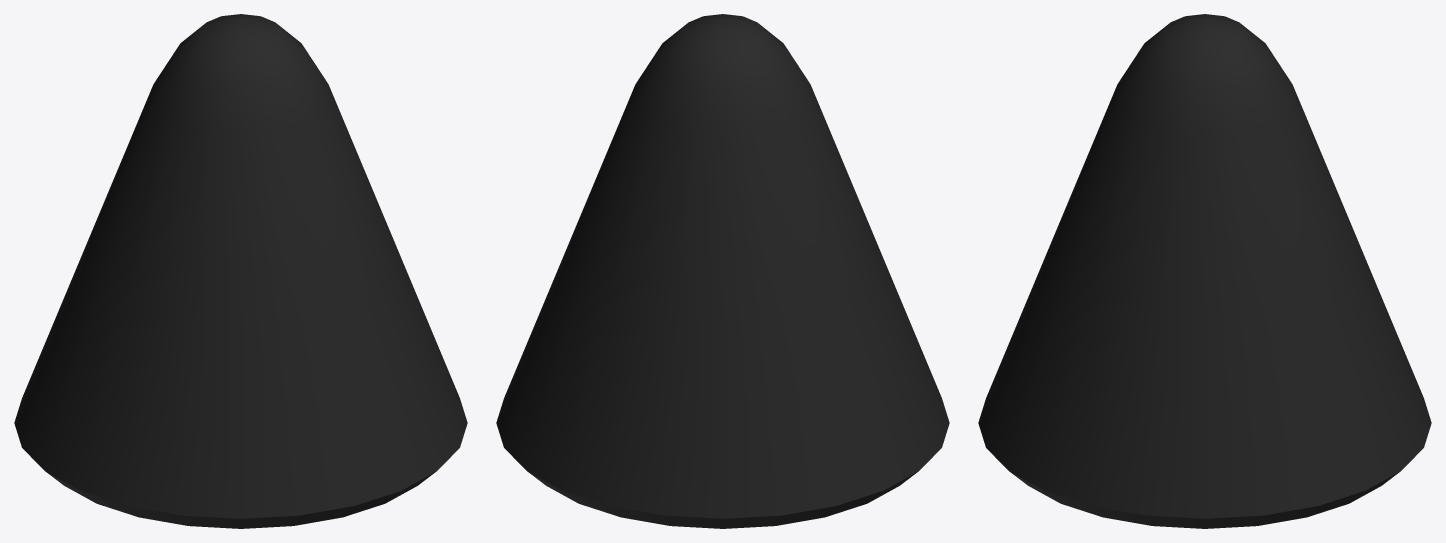
The model's file is Arrow_Nose_0_1.obj.
3 renders of one model, left to right at view 1: azimuth 30°, elevation 25°; view 2: azimuth 150°, elevation 25°; view 3: azimuth 270°, elevation 25°, orthographic.
Parts seen in each view (by area): view 1: Arrow_Nose_0_1; view 2: Arrow_Nose_0_1; view 3: Arrow_Nose_0_1.
Part boxes in pixels (x1,y1,x2,y2): Arrow_Nose_0_1: [14, 14, 467, 528]; Arrow_Nose_0_1: [496, 14, 949, 528]; Arrow_Nose_0_1: [978, 14, 1431, 528].
Bounding box in the file's own units: 0.625 × 0.6425 × 0.625.
